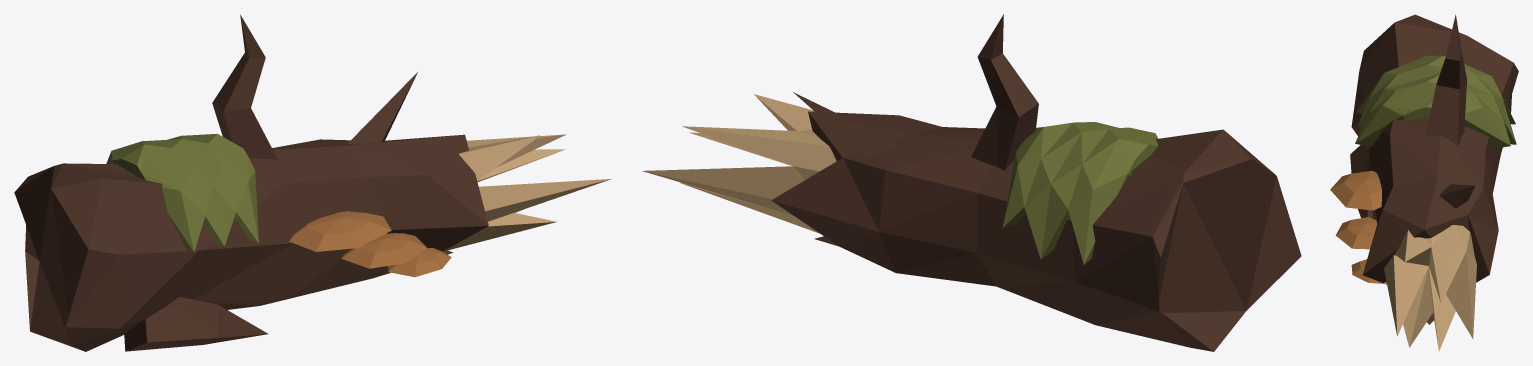
The model's file is FK_FallenLog.fbx.
The picture shows the model from 3 angles, left to right: view 1: azimuth 30°, elevation 25°; view 2: azimuth 150°, elevation 25°; view 3: azimuth 270°, elevation 25°; orthographic projection. The views are drawn at different scales.
Visible parts, largest first — view 1: FK_FallenLog_Bark, FK_FallenLog_Moss, FK_FallenLog_Splinter, FK_FallenLog_Fungus; view 2: FK_FallenLog_Bark, FK_FallenLog_Moss, FK_FallenLog_Splinter; view 3: FK_FallenLog_Bark, FK_FallenLog_Splinter, FK_FallenLog_Moss, FK_FallenLog_Fungus.
Part boxes in pixels (bbox=[...]): FK_FallenLog_Bark: bbox=[14, 14, 488, 351]; FK_FallenLog_Moss: bbox=[106, 133, 258, 252]; FK_FallenLog_Splinter: bbox=[443, 134, 611, 251]; FK_FallenLog_Fungus: bbox=[289, 211, 451, 277]; FK_FallenLog_Bark: bbox=[771, 14, 1301, 351]; FK_FallenLog_Moss: bbox=[1002, 122, 1158, 264]; FK_FallenLog_Splinter: bbox=[642, 94, 836, 233]; FK_FallenLog_Bark: bbox=[1350, 14, 1518, 324]; FK_FallenLog_Splinter: bbox=[1384, 225, 1476, 351]; FK_FallenLog_Moss: bbox=[1355, 55, 1516, 148]; FK_FallenLog_Fungus: bbox=[1330, 170, 1386, 283].
Size of the model in its own units: 16.39 by 7.6 by 5.65.
